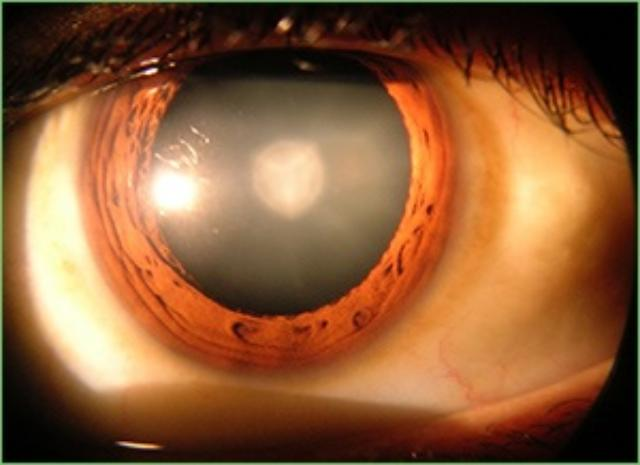eye: (70, 25, 463, 374)
